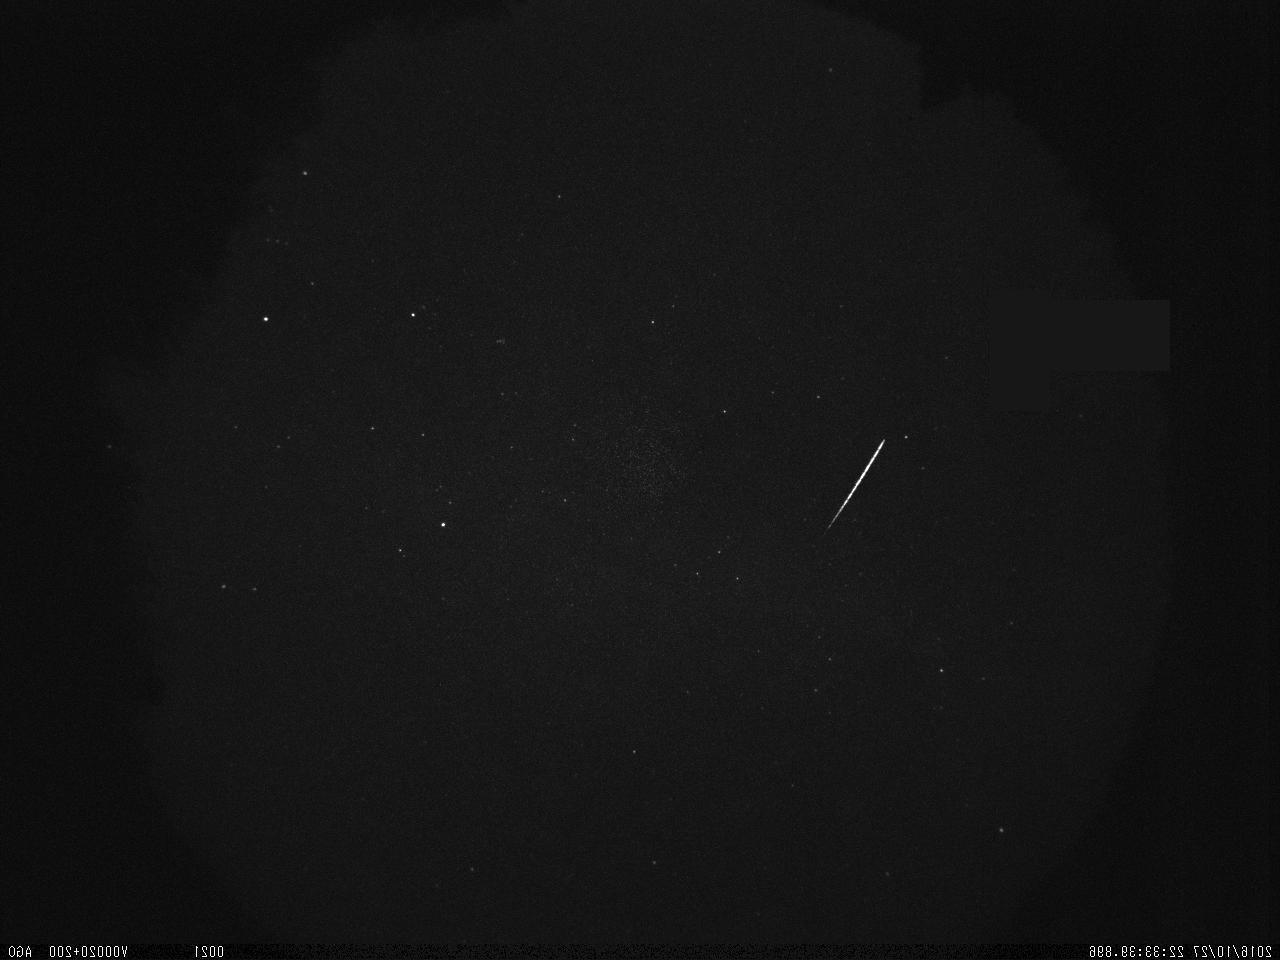meteor: (808, 427, 897, 546)
